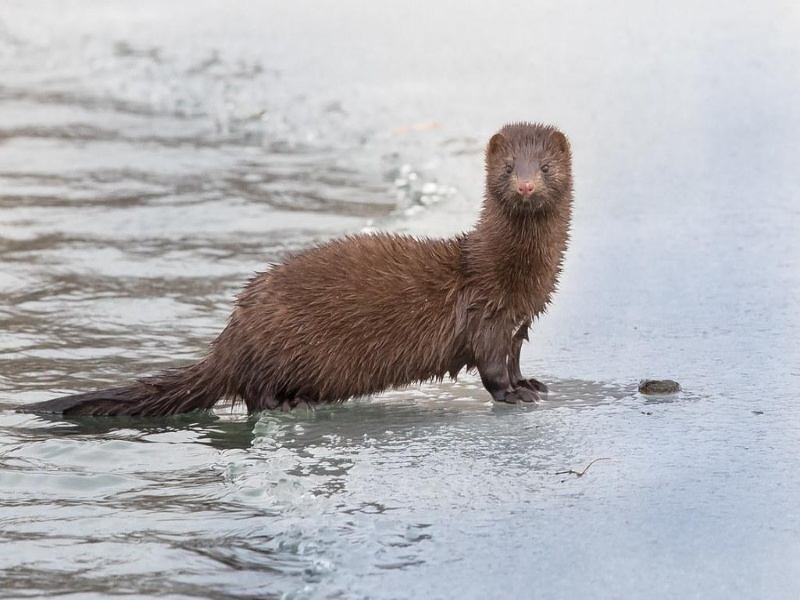minkish: (12, 122, 576, 432)
